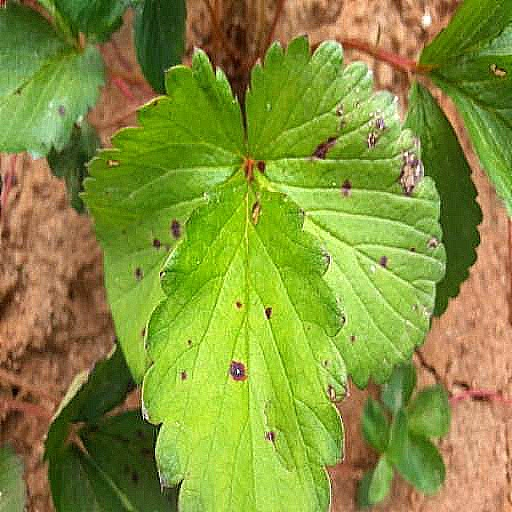Leaf Spot: (162, 162, 372, 511), (65, 34, 266, 390), (264, 45, 435, 387), (405, 2, 511, 160)
